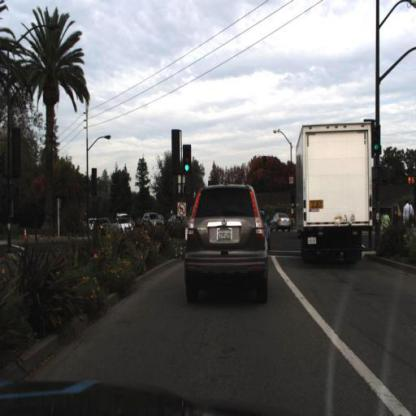car: (183, 181, 270, 308), (167, 214, 188, 237), (142, 214, 164, 235), (116, 217, 135, 234), (96, 218, 112, 235), (88, 218, 98, 232)
pedestrian: (401, 196, 416, 232), (392, 196, 401, 234), (381, 208, 393, 235)
trafficLight-Green: (373, 123, 385, 160), (183, 145, 191, 175)
truck: (295, 119, 378, 267)
